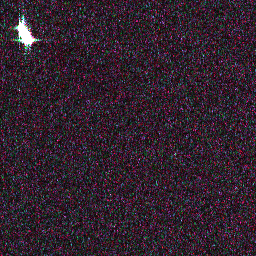ship: (13, 18, 37, 47)
